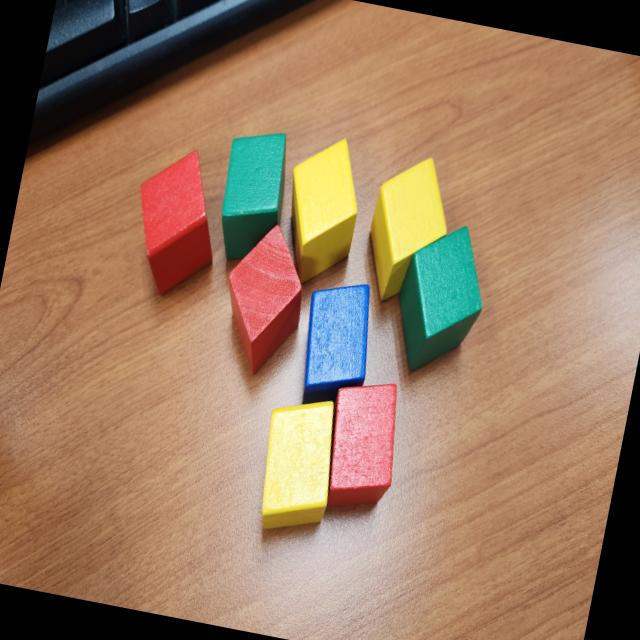blue: (291, 274, 385, 416)
green: (385, 216, 497, 384), (208, 124, 294, 268)
red: (120, 142, 232, 306), (210, 214, 317, 384), (316, 372, 410, 518)
yellow: (356, 149, 462, 314), (272, 129, 372, 291), (248, 389, 348, 544)
